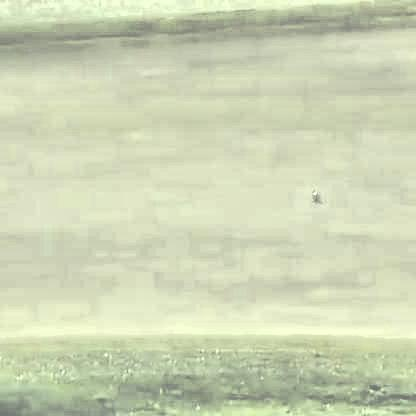golfball: (308, 184, 319, 197)
